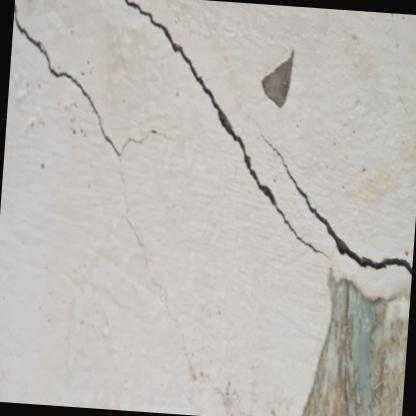crack: (120, 0, 316, 255), (267, 139, 413, 280), (12, 0, 120, 159)
